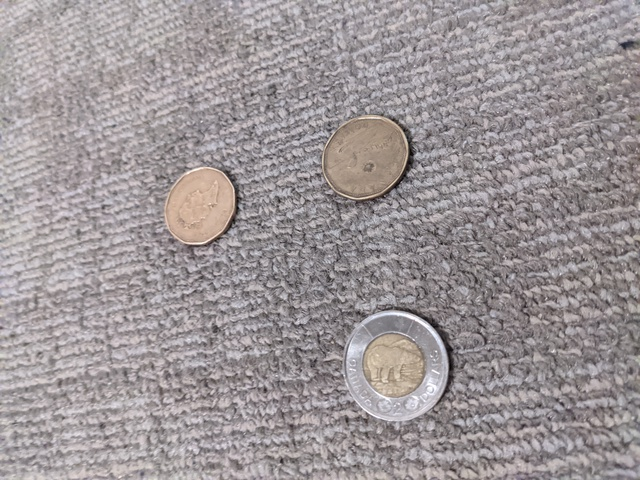loonie: (313, 109, 422, 201), (155, 162, 251, 250)
twonie: (329, 303, 457, 422)
